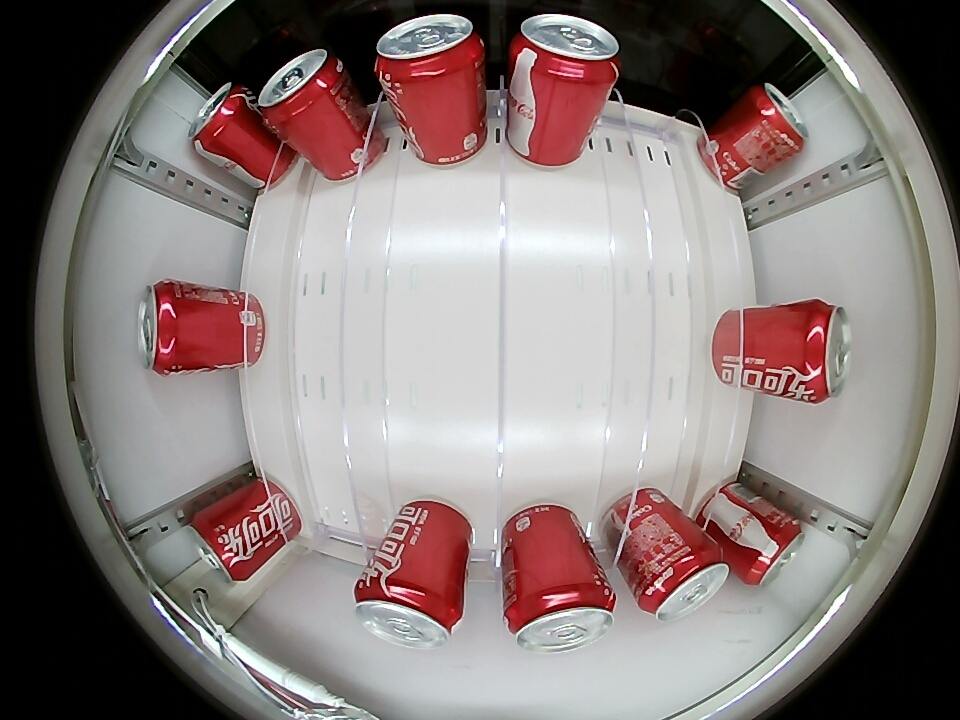kele: (355, 574, 462, 650), (505, 582, 617, 654), (511, 14, 621, 87), (375, 14, 484, 87), (636, 544, 730, 621), (258, 49, 348, 126), (789, 301, 852, 402), (139, 280, 195, 376), (189, 504, 254, 582), (747, 82, 808, 161), (188, 81, 249, 158), (742, 514, 805, 587)
